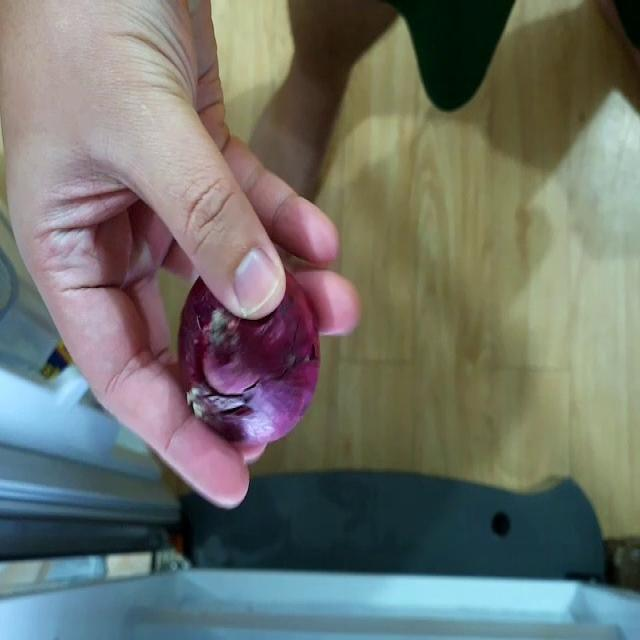onion: (185, 278, 324, 442)
